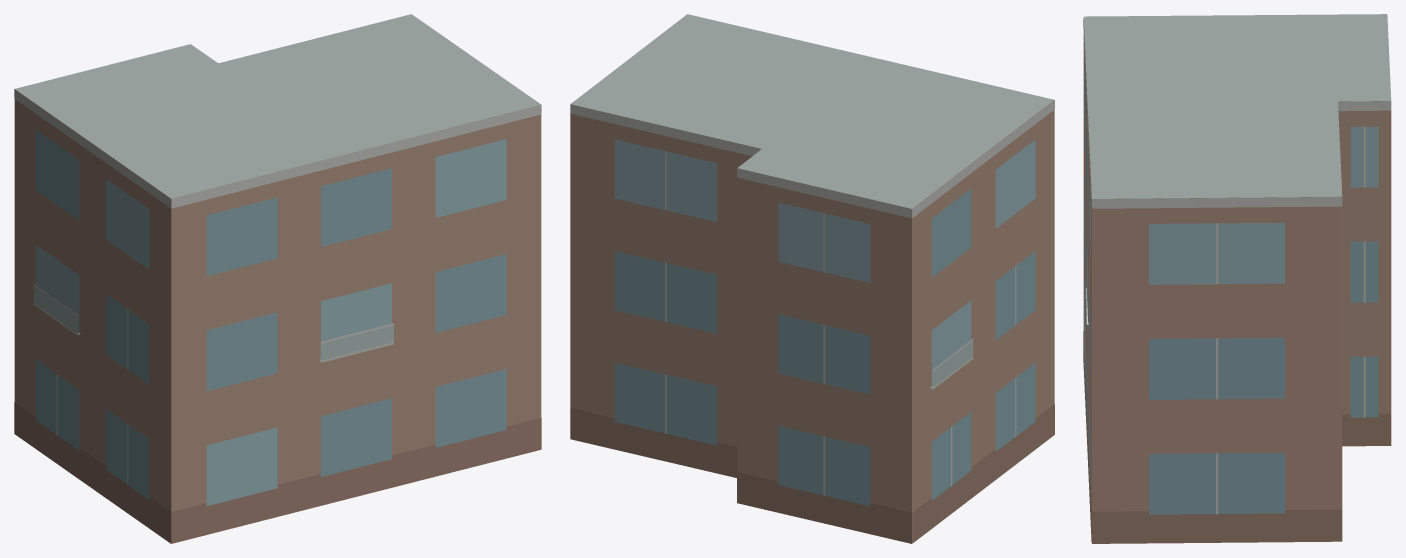
Rendered from survey-upis-32487696.glb.
3 views of the same model, side by side, from view 1: azimuth 30°, elevation 25°; view 2: azimuth 150°, elevation 25°; view 3: azimuth 270°, elevation 25° (orthographic). The views are drawn at different scales.
Parts seen in each view (by area): view 1: survey-upis-32487696.tmp; view 2: survey-upis-32487696.tmp; view 3: survey-upis-32487696.tmp.
Boxes of the visible parts, left/top/right/bottom form: survey-upis-32487696.tmp: left=14, top=14, right=541, bottom=543; survey-upis-32487696.tmp: left=570, top=14, right=1054, bottom=543; survey-upis-32487696.tmp: left=1083, top=14, right=1391, bottom=543.
Bounding box in the file's own units: 9.92 × 8.6 × 6.97.
